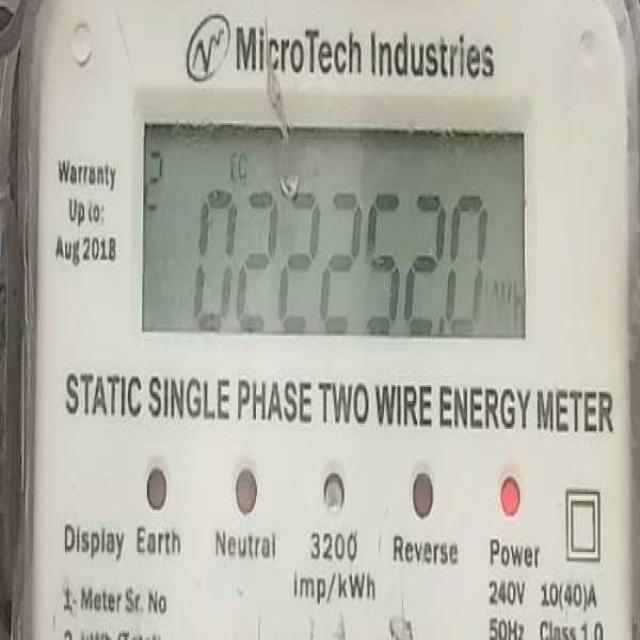0: (188, 179, 236, 333), (446, 182, 490, 339)
2: (321, 180, 364, 345), (235, 179, 277, 340), (278, 181, 320, 339), (406, 177, 442, 346)
5: (366, 181, 406, 346)
Digital meter: (141, 122, 539, 352)
point: (435, 310, 449, 346)
